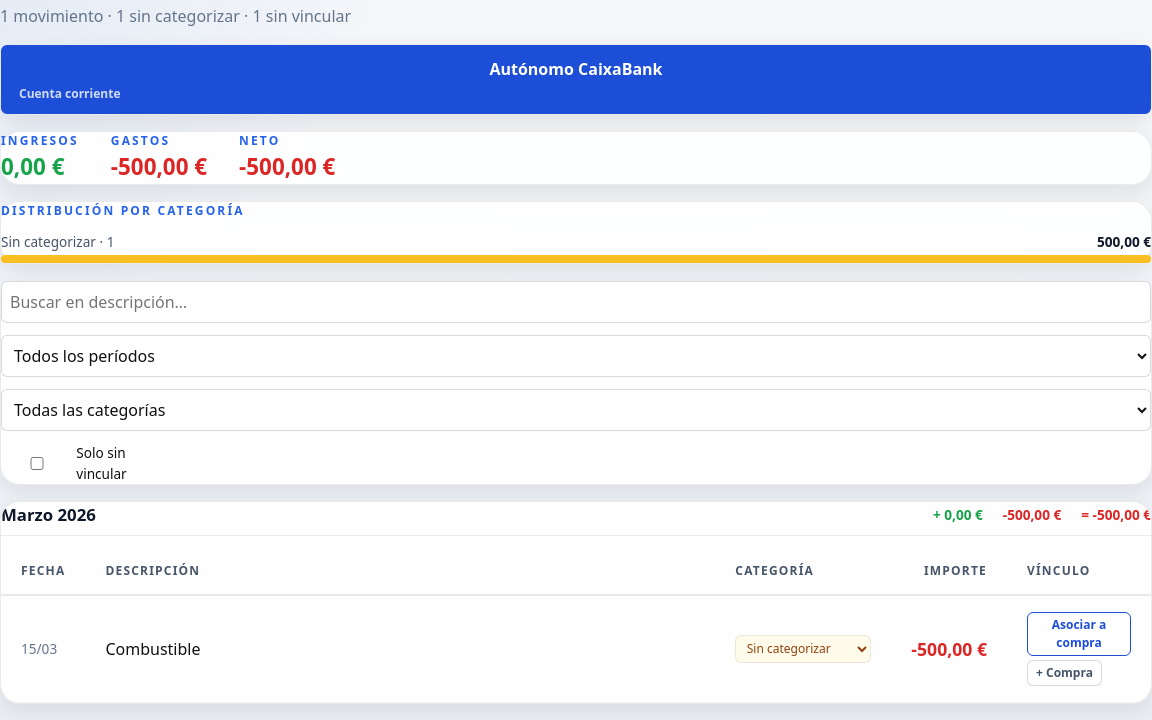
Scenario: BankList › opens rule modal only when inline + regla button is clicked
(page scrolled)
Select "Combustible" in the dropdown named "Categoría para" at (803, 649), box [735,635,871,663]
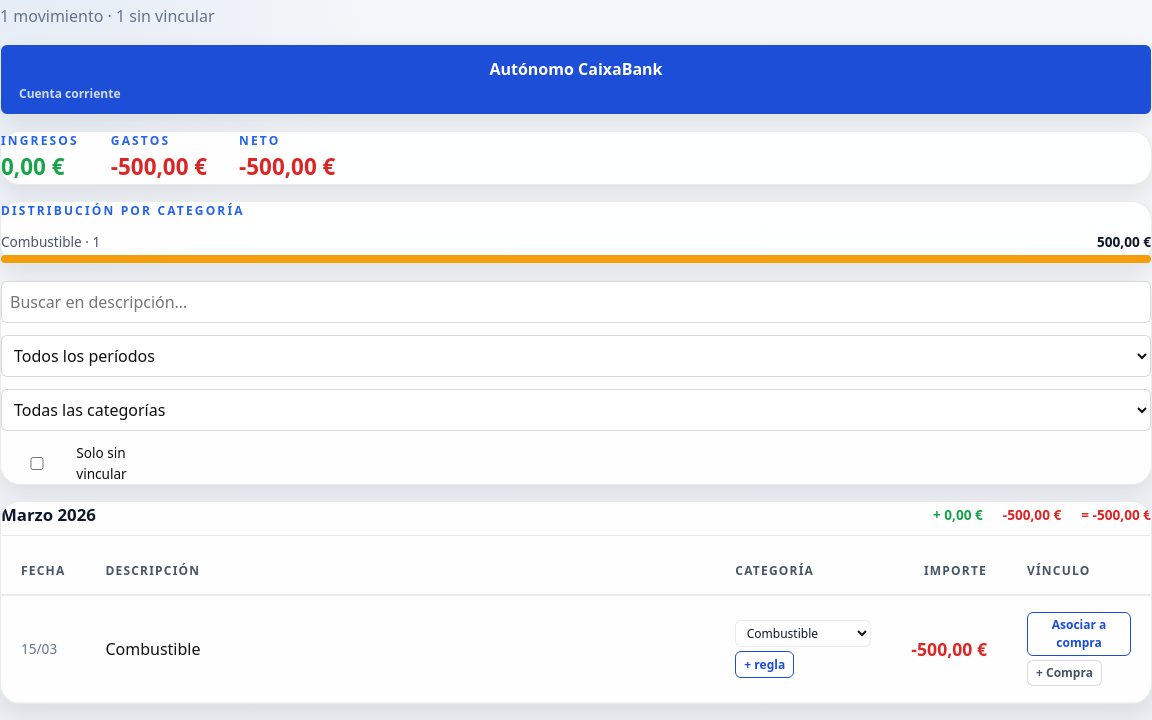
Click the button "+ regla" at (765, 665), box [735,651,794,678]
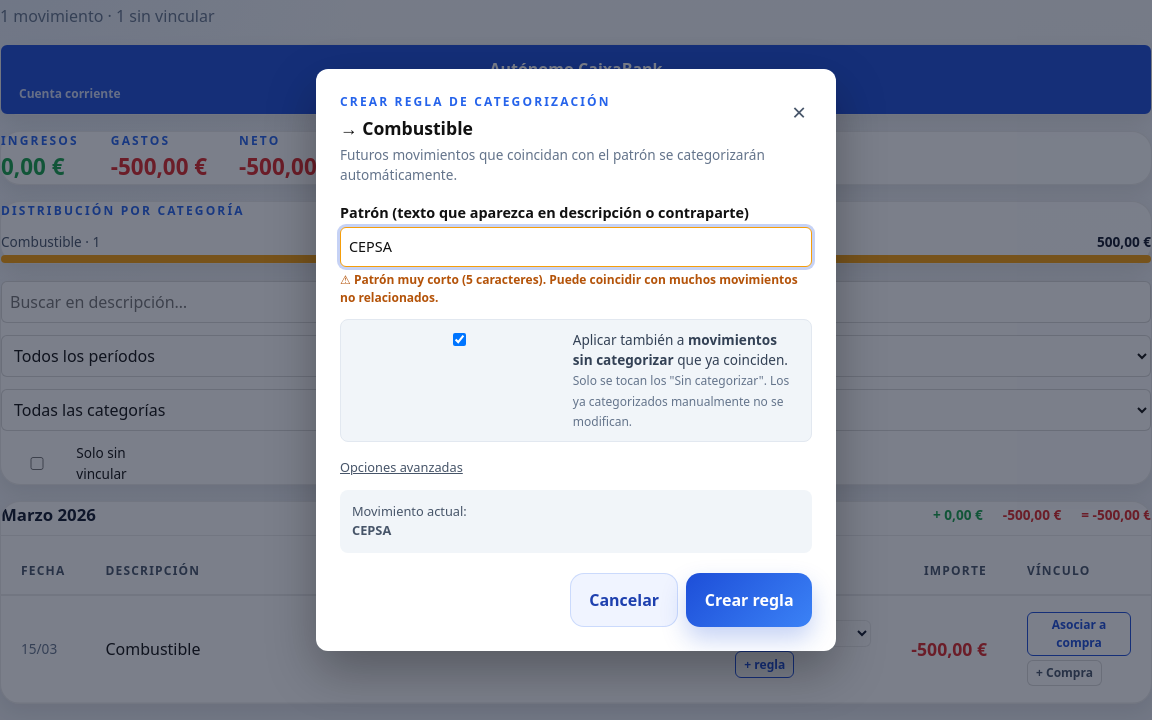
Check: the text "Crear regla de categorización" is shown, box [340,93,611,110]
